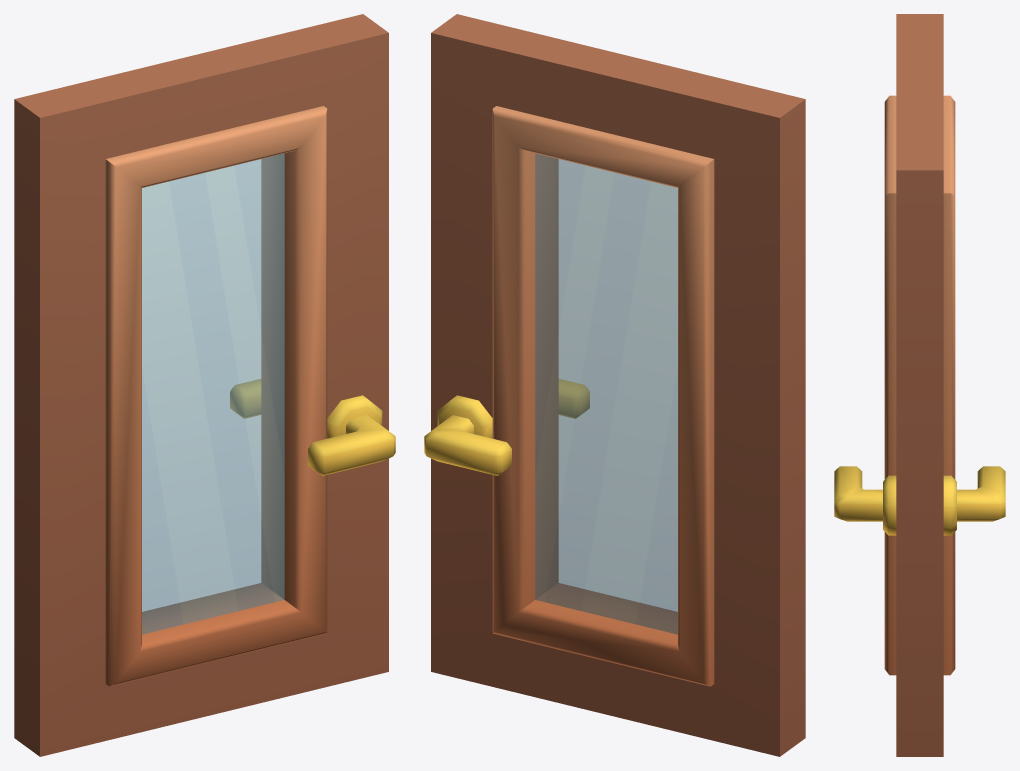
The model's file is door-modular.glb.
3 renders of one model, left to right at view 1: azimuth 30°, elevation 25°; view 2: azimuth 150°, elevation 25°; view 3: azimuth 270°, elevation 25°, orthographic. The views are drawn at different scales.
Parts seen in each view (by area): view 1: door_modular; view 2: door_modular; view 3: door_modular.
Boxes of the visible parts, x1,y1,x2,y2 form: door_modular: (14,14,395,756); door_modular: (424,14,805,756); door_modular: (834,14,1005,756).
Bounding box in the file's own units: 1.6 × 2.8 × 0.74.
2 materials, 2 textured.
